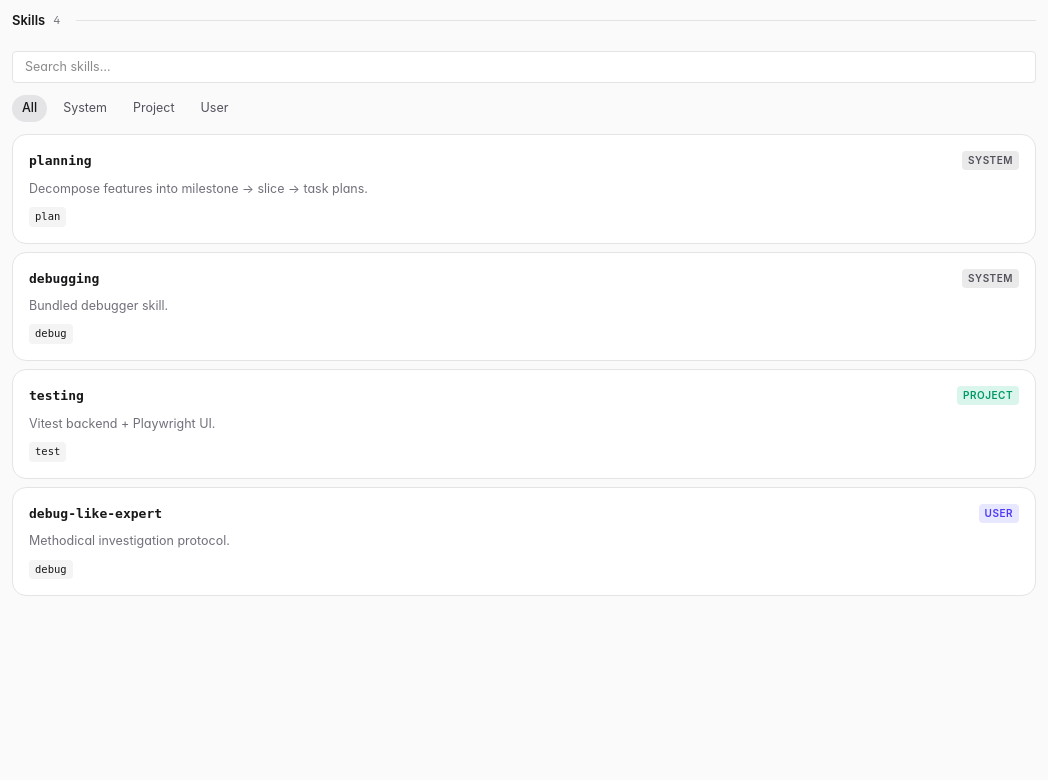
Scenario: SkillsPane — scope chip filtering › clicking Project narrows the list to project-scoped only
This screenshot has width=1048, height=780.
What coordinates should you click on to do the following:
click the button with test id "skills-scope-chip-project"
I would click on:
 (154, 109)
Its box is [123,95,184,122].
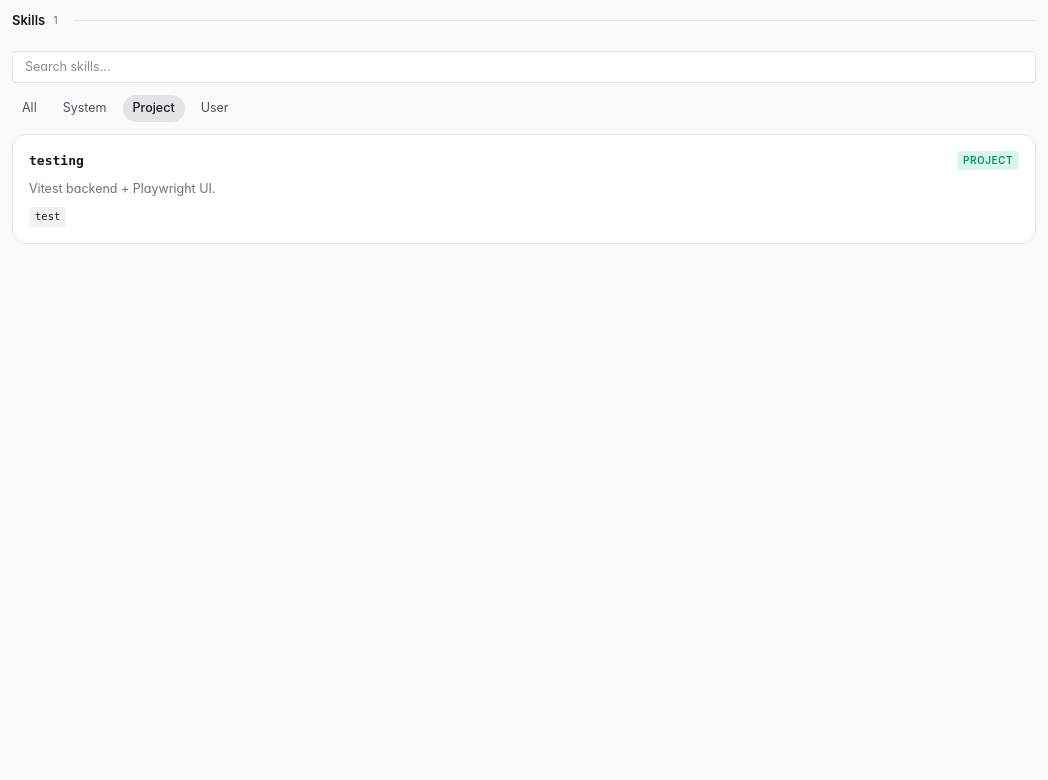
Result: the number of elements with test id "skill-row" is 1 at [29,151,1019,227]
